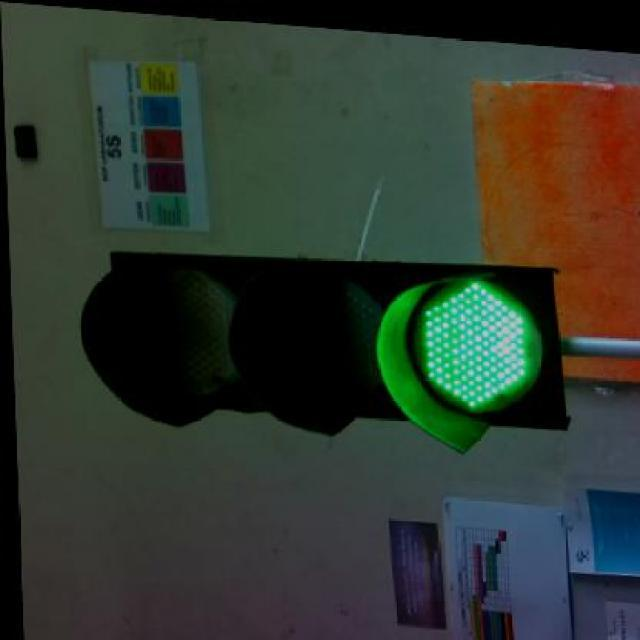traffic light: (82, 252, 572, 456)
